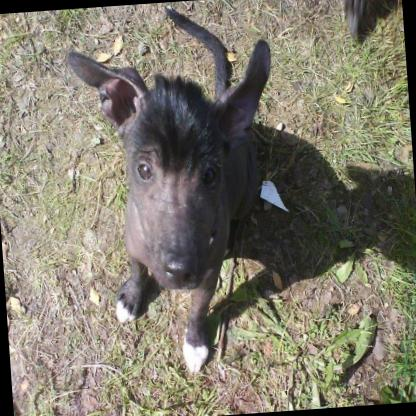Mexican_hairless: (62, 0, 292, 383)
